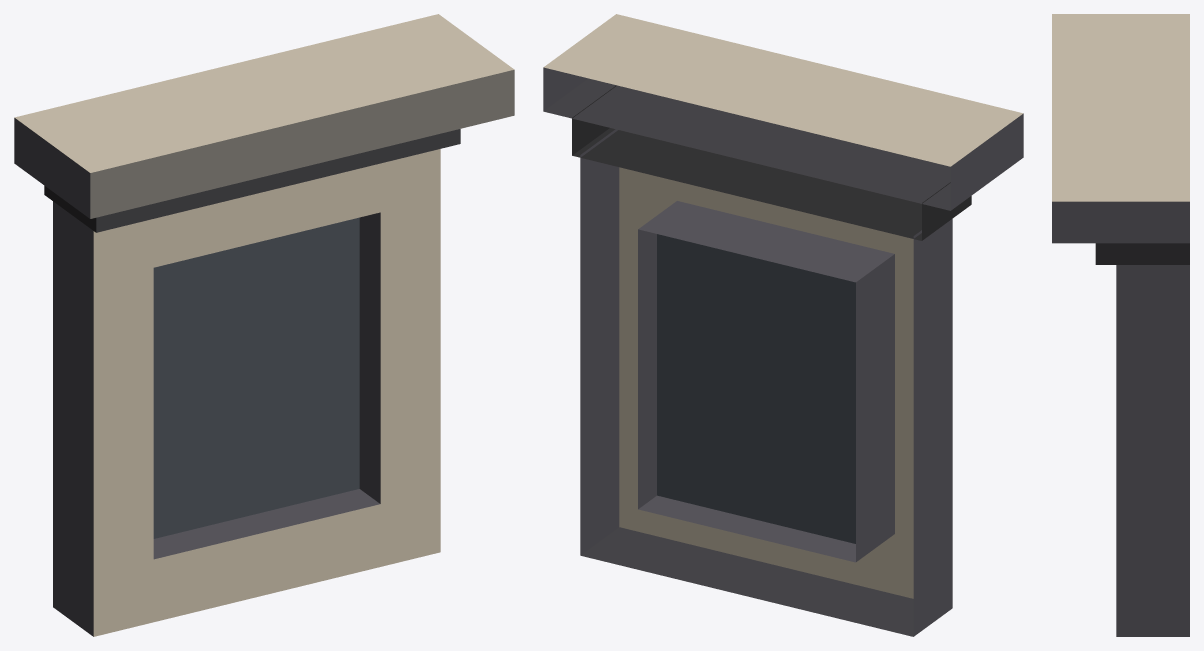
The model's file is TB_CITY_BD_Window_Small_D.FBX.
The picture shows the model from 3 angles, left to right: view 1: azimuth 30°, elevation 25°; view 2: azimuth 150°, elevation 25°; view 3: azimuth 270°, elevation 25°; orthographic projection. The views are drawn at different scales.
Visible parts, largest first — view 1: TB_CITY_BD_Window_Small_D; view 2: TB_CITY_BD_Window_Small_D; view 3: TB_CITY_BD_Window_Small_D.
Boxes of the visible parts, x1=… form: TB_CITY_BD_Window_Small_D: x1=14, y1=14, x2=514, y2=636; TB_CITY_BD_Window_Small_D: x1=543, y1=14, x2=1023, y2=636; TB_CITY_BD_Window_Small_D: x1=1052, y1=14, x2=1189, y2=636.
Bounding box in the file's own units: 1.76 × 1.98 × 0.5459.
